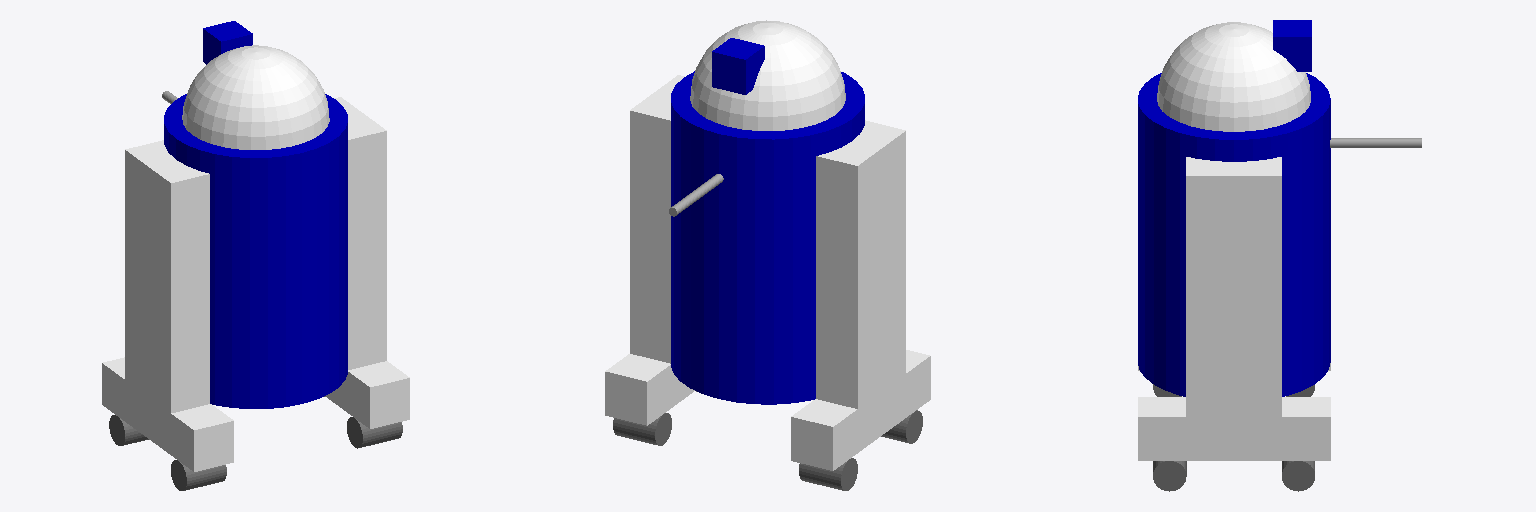
URDF robot description (physics):
<?xml version="0.0" ?>
<robot name="physics">
	<link name="base_link">
		<inertial>
			<origin rpy="0.00000 -0.00000 0.00000" xyz="0.00000 0.00000 0.00000"/>
			<mass value="10.00000"/>
			<inertia ixx="0.37225" ixy="0" ixz="0" iyy="0.37225" iyz="0" izz="0.14450"/>
		</inertial>
		<visual>
			<origin rpy="0.00000 -0.00000 0.00000" xyz="0.00000 0.00000 0.00000"/>
			<geometry>
				<cylinder length="0.60000" radius="0.20000"/>
			</geometry>
			<material name="mat_-1_0">
				<color rgba="0.00000 0.00000 0.80000 1.00000" />
			</material>
		</visual>
		<collision>
			<origin rpy="0.00000 -0.00000 0.00000" xyz="0.00000 0.00000 0.00000"/>
			<geometry>
				<cylinder length="0.60000" radius="0.17000"/>
			</geometry>
		</collision>
	</link>
	<link name="right_leg">
		<inertial>
			<origin rpy="0.00000 1.57080 -0.00000" xyz="0.00000 0.00000 -0.30000"/>
			<mass value="10.00000"/>
			<inertia ixx="0.04267" ixy="0" ixz="0" iyy="0.31067" iyz="0" izz="0.33601"/>
		</inertial>
		<visual>
			<origin rpy="0.00000 1.57080 -0.00000" xyz="0.00000 0.00000 -0.30000"/>
			<geometry>
				<box size="0.60000 0.20000 0.10000"/>
			</geometry>
			<material name="mat_0_0">
				<color rgba="1.00000 1.00000 1.00000 1.00000" />
			</material>
		</visual>
		<collision>
			<origin rpy="0.00000 1.57080 -0.00000" xyz="0.00000 0.00000 -0.30000"/>
			<geometry>
				<box size="0.60000 0.20000 0.10000"/>
			</geometry>
		</collision>
	</link>
	<link name="right_base">
		<inertial>
			<origin rpy="0.00000 -0.00000 0.00000" xyz="0.00000 0.00000 0.00000"/>
			<mass value="10.00000"/>
			<inertia ixx="0.14167" ixy="0" ixz="0" iyy="0.01667" iyz="0" izz="0.14167"/>
		</inertial>
		<visual>
			<origin rpy="0.00000 -0.00000 0.00000" xyz="0.00000 0.00000 0.00000"/>
			<geometry>
				<box size="0.10000 0.40000 0.10000"/>
			</geometry>
			<material name="mat_1_0">
				<color rgba="1.00000 1.00000 1.00000 1.00000" />
			</material>
		</visual>
		<collision>
			<origin rpy="0.00000 -0.00000 0.00000" xyz="0.00000 0.00000 0.00000"/>
			<geometry>
				<box size="0.10000 0.40000 0.10000"/>
			</geometry>
		</collision>
	</link>
	<link name="right_front_wheel">
		<inertial>
			<origin rpy="0.00000 -0.00000 0.00000" xyz="0.00000 0.00000 0.00000"/>
			<mass value="1.00000"/>
			<inertia ixx="0.00114" ixy="0" ixz="0" iyy="0.00114" iyz="0" izz="0.00061"/>
		</inertial>
		<visual>
			<origin rpy="0.00000 -0.00000 0.00000" xyz="0.00000 0.00000 0.00000"/>
			<geometry>
				<cylinder length="0.10000" radius="0.03500"/>
			</geometry>
			<material name="mat_2_0">
				<color rgba="0.50000 0.50000 0.50000 1.00000" />
			</material>
		</visual>
		<collision>
			<origin rpy="0.00000 -0.00000 0.00000" xyz="0.00000 0.00000 0.00000"/>
			<geometry>
				<cylinder length="0.10000" radius="0.03500"/>
			</geometry>
		</collision>
	</link>
	<link name="right_back_wheel">
		<inertial>
			<origin rpy="0.00000 -0.00000 0.00000" xyz="0.00000 0.00000 0.00000"/>
			<mass value="1.00000"/>
			<inertia ixx="0.00114" ixy="0" ixz="0" iyy="0.00114" iyz="0" izz="0.00061"/>
		</inertial>
		<visual>
			<origin rpy="0.00000 -0.00000 0.00000" xyz="0.00000 0.00000 0.00000"/>
			<geometry>
				<cylinder length="0.10000" radius="0.03500"/>
			</geometry>
			<material name="mat_3_0">
				<color rgba="0.50000 0.50000 0.50000 1.00000" />
			</material>
		</visual>
		<collision>
			<origin rpy="0.00000 -0.00000 0.00000" xyz="0.00000 0.00000 0.00000"/>
			<geometry>
				<cylinder length="0.10000" radius="0.03500"/>
			</geometry>
		</collision>
	</link>
	<link name="left_leg">
		<inertial>
			<origin rpy="0.00000 1.57080 -0.00000" xyz="0.00000 0.00000 -0.30000"/>
			<mass value="10.00000"/>
			<inertia ixx="0.04267" ixy="0" ixz="0" iyy="0.31067" iyz="0" izz="0.33601"/>
		</inertial>
		<visual>
			<origin rpy="0.00000 1.57080 -0.00000" xyz="0.00000 0.00000 -0.30000"/>
			<geometry>
				<box size="0.60000 0.20000 0.10000"/>
			</geometry>
			<material name="mat_4_0">
				<color rgba="1.00000 1.00000 1.00000 1.00000" />
			</material>
		</visual>
		<collision>
			<origin rpy="0.00000 1.57080 -0.00000" xyz="0.00000 0.00000 -0.30000"/>
			<geometry>
				<box size="0.60000 0.20000 0.10000"/>
			</geometry>
		</collision>
	</link>
	<link name="left_base">
		<inertial>
			<origin rpy="0.00000 -0.00000 0.00000" xyz="0.00000 0.00000 0.00000"/>
			<mass value="10.00000"/>
			<inertia ixx="0.14167" ixy="0" ixz="0" iyy="0.01667" iyz="0" izz="0.14167"/>
		</inertial>
		<visual>
			<origin rpy="0.00000 -0.00000 0.00000" xyz="0.00000 0.00000 0.00000"/>
			<geometry>
				<box size="0.10000 0.40000 0.10000"/>
			</geometry>
			<material name="mat_5_0">
				<color rgba="1.00000 1.00000 1.00000 1.00000" />
			</material>
		</visual>
		<collision>
			<origin rpy="0.00000 -0.00000 0.00000" xyz="0.00000 0.00000 0.00000"/>
			<geometry>
				<box size="0.10000 0.40000 0.10000"/>
			</geometry>
		</collision>
	</link>
	<link name="left_front_wheel">
		<inertial>
			<origin rpy="0.00000 -0.00000 0.00000" xyz="0.00000 0.00000 0.00000"/>
			<mass value="1.00000"/>
			<inertia ixx="0.00114" ixy="0" ixz="0" iyy="0.00114" iyz="0" izz="0.00061"/>
		</inertial>
		<visual>
			<origin rpy="0.00000 -0.00000 0.00000" xyz="0.00000 0.00000 0.00000"/>
			<geometry>
				<cylinder length="0.10000" radius="0.03500"/>
			</geometry>
			<material name="mat_6_0">
				<color rgba="0.50000 0.50000 0.50000 1.00000" />
			</material>
		</visual>
		<collision>
			<origin rpy="0.00000 -0.00000 0.00000" xyz="0.00000 0.00000 0.00000"/>
			<geometry>
				<cylinder length="0.10000" radius="0.03500"/>
			</geometry>
		</collision>
	</link>
	<link name="left_back_wheel">
		<inertial>
			<origin rpy="0.00000 -0.00000 0.00000" xyz="0.00000 0.00000 0.00000"/>
			<mass value="1.00000"/>
			<inertia ixx="0.00114" ixy="0" ixz="0" iyy="0.00114" iyz="0" izz="0.00061"/>
		</inertial>
		<visual>
			<origin rpy="0.00000 -0.00000 0.00000" xyz="0.00000 0.00000 0.00000"/>
			<geometry>
				<cylinder length="0.10000" radius="0.03500"/>
			</geometry>
			<material name="mat_7_0">
				<color rgba="0.50000 0.50000 0.50000 1.00000" />
			</material>
		</visual>
		<collision>
			<origin rpy="0.00000 -0.00000 0.00000" xyz="0.00000 0.00000 0.00000"/>
			<geometry>
				<cylinder length="0.10000" radius="0.03500"/>
			</geometry>
		</collision>
	</link>
	<link name="gripper_pole">
		<inertial>
			<origin rpy="0.00000 -0.00000 0.00000" xyz="0.00000 0.00000 0.00000"/>
			<mass value="0.05000"/>
			<inertia ixx="0.00000" ixy="0" ixz="0" iyy="0.00017" iyz="0" izz="0.00017"/>
		</inertial>
		<visual>
			<origin rpy="0.00000 1.57080 -0.00000" xyz="0.10000 0.00000 0.00000"/>
			<geometry>
				<cylinder length="0.20000" radius="0.01000"/>
			</geometry>
			<material name="mat_8_0">
				<color rgba="0.70000 0.70000 0.70000 1.00000" />
			</material>
		</visual>
		<collision>
			<origin rpy="0.00000 1.57080 -0.00000" xyz="0.10000 0.00000 0.00000"/>
			<geometry>
				<cylinder length="0.20000" radius="0.01000"/>
			</geometry>
		</collision>
	</link>
	<link name="left_gripper">
		<inertial>
			<origin rpy="0.00000 -0.00000 0.00000" xyz="0.00000 0.00000 0.00000"/>
			<mass value="0.05000"/>
			<inertia ixx="0.00003" ixy="0" ixz="0" iyy="0.00007" iyz="0" izz="0.00007"/>
		</inertial>
		<visual>
			<origin rpy="0.00000 -0.00000 0.00000" xyz="0.00000 0.00000 0.00000"/>
			<geometry>
				<mesh filename="[local-path]/anaconda3/envs/softSim/lib/python3.8/site-packages/pybullet_data/l_finger.stl" scale="1.00000 1.00000 1.00000"/>
			</geometry>
			<material name="mat_9_0">
				<color rgba="1.00000 1.00000 1.00000 1.00000" />
			</material>
		</visual>
		<collision>
			<origin rpy="0.00000 -0.00000 0.00000" xyz="0.00000 0.00000 0.00000"/>
			<geometry>
				<mesh filename="[local-path]/anaconda3/envs/softSim/lib/python3.8/site-packages/pybullet_data/l_finger.stl" scale="1.00000 1.00000 1.00000"/>
			</geometry>
		</collision>
	</link>
	<link name="left_tip">
		<inertial>
			<origin rpy="0.00000 -0.00000 0.00000" xyz="0.00000 0.00000 0.00000"/>
			<mass value="0.05000"/>
			<inertia ixx="0.00001" ixy="0" ixz="0" iyy="0.00002" iyz="0" izz="0.00003"/>
		</inertial>
		<visual>
			<origin rpy="0.00000 -0.00000 0.00000" xyz="0.09137 0.00495 0.00000"/>
			<geometry>
				<mesh filename="[local-path]/anaconda3/envs/softSim/lib/python3.8/site-packages/pybullet_data/l_finger_tip.stl" scale="1.00000 1.00000 1.00000"/>
			</geometry>
			<material name="mat_10_0">
				<color rgba="1.00000 1.00000 1.00000 1.00000" />
			</material>
		</visual>
		<collision>
			<origin rpy="0.00000 -0.00000 0.00000" xyz="0.09137 0.00495 0.00000"/>
			<geometry>
				<mesh filename="[local-path]/anaconda3/envs/softSim/lib/python3.8/site-packages/pybullet_data/l_finger_tip.stl" scale="1.00000 1.00000 1.00000"/>
			</geometry>
		</collision>
	</link>
	<link name="right_gripper">
		<inertial>
			<origin rpy="0.00000 -0.00000 0.00000" xyz="0.00000 0.00000 0.00000"/>
			<mass value="0.05000"/>
			<inertia ixx="0.00003" ixy="0" ixz="0" iyy="0.00007" iyz="0" izz="0.00007"/>
		</inertial>
		<visual>
			<origin rpy="-3.14150 -0.00000 0.00000" xyz="0.00000 0.00000 0.00000"/>
			<geometry>
				<mesh filename="[local-path]/anaconda3/envs/softSim/lib/python3.8/site-packages/pybullet_data/l_finger.stl" scale="1.00000 1.00000 1.00000"/>
			</geometry>
			<material name="mat_11_0">
				<color rgba="1.00000 1.00000 1.00000 1.00000" />
			</material>
		</visual>
		<collision>
			<origin rpy="-3.14150 -0.00000 0.00000" xyz="0.00000 0.00000 0.00000"/>
			<geometry>
				<mesh filename="[local-path]/anaconda3/envs/softSim/lib/python3.8/site-packages/pybullet_data/l_finger.stl" scale="1.00000 1.00000 1.00000"/>
			</geometry>
		</collision>
	</link>
	<link name="right_tip">
		<inertial>
			<origin rpy="0.00000 -0.00000 0.00000" xyz="0.00000 0.00000 0.00000"/>
			<mass value="0.05000"/>
			<inertia ixx="0.00001" ixy="0" ixz="0" iyy="0.00002" iyz="0" izz="0.00003"/>
		</inertial>
		<visual>
			<origin rpy="-3.14150 -0.00000 0.00000" xyz="0.09137 0.00495 0.00000"/>
			<geometry>
				<mesh filename="[local-path]/anaconda3/envs/softSim/lib/python3.8/site-packages/pybullet_data/l_finger_tip.stl" scale="1.00000 1.00000 1.00000"/>
			</geometry>
			<material name="mat_12_0">
				<color rgba="1.00000 1.00000 1.00000 1.00000" />
			</material>
		</visual>
		<collision>
			<origin rpy="-3.14150 -0.00000 0.00000" xyz="0.09137 0.00495 0.00000"/>
			<geometry>
				<mesh filename="[local-path]/anaconda3/envs/softSim/lib/python3.8/site-packages/pybullet_data/l_finger_tip.stl" scale="1.00000 1.00000 1.00000"/>
			</geometry>
		</collision>
	</link>
	<link name="head">
		<inertial>
			<origin rpy="0.00000 -0.00000 0.00000" xyz="0.00000 0.00000 0.00000"/>
			<mass value="10.00000"/>
			<inertia ixx="0.10240" ixy="0" ixz="0" iyy="0.10240" iyz="0" izz="0.10240"/>
		</inertial>
		<visual>
			<origin rpy="0.00000 -0.00000 0.00000" xyz="0.00000 0.00000 0.00000"/>
			<geometry>
				<sphere radius="0.16000"/>
			</geometry>
			<material name="mat_13_0">
				<color rgba="1.00000 1.00000 1.00000 1.00000" />
			</material>
		</visual>
		<collision>
			<origin rpy="0.00000 -0.00000 0.00000" xyz="0.00000 0.00000 0.00000"/>
			<geometry>
				<sphere radius="0.16000"/>
			</geometry>
		</collision>
	</link>
	<link name="box">
		<inertial>
			<origin rpy="0.00000 -0.00000 0.00000" xyz="0.00000 0.00000 0.00000"/>
			<mass value="1.00000"/>
			<inertia ixx="0.00107" ixy="0" ixz="0" iyy="0.00107" iyz="0" izz="0.00107"/>
		</inertial>
		<visual>
			<origin rpy="0.00000 -0.00000 0.00000" xyz="0.00000 0.00000 0.00000"/>
			<geometry>
				<box size="0.08000 0.08000 0.08000"/>
			</geometry>
			<material name="mat_14_0">
				<color rgba="0.00000 0.00000 0.80000 1.00000" />
			</material>
		</visual>
		<collision>
			<origin rpy="0.00000 -0.00000 0.00000" xyz="0.00000 0.00000 0.00000"/>
			<geometry>
				<box size="0.08000 0.08000 0.08000"/>
			</geometry>
		</collision>
	</link>
	<joint name="base_to_right_leg" type="fixed">
		<parent link="base_link"/>
		<child link="right_leg"/>
		<dynamics damping="1.0" friction="0.0001"/>
		<origin rpy="0.00000 -0.00000 0.00000" xyz="0.22000 0.00000 0.25000"/>
		<axis xyz="0.00000 0.00000 0.00000"/>
	</joint>
	<joint name="right_base_joint" type="fixed">
		<parent link="right_leg"/>
		<child link="right_base"/>
		<dynamics damping="1.0" friction="0.0001"/>
		<origin rpy="0.00000 0.00000 0.00000" xyz="0.00000 0.00000 -0.60000"/>
		<axis xyz="0.00000 0.00000 0.00000"/>
	</joint>
	<joint name="right_front_wheel_joint" type="continuous">
		<parent link="right_base"/>
		<child link="right_front_wheel"/>
		<dynamics damping="1.0" friction="0.0001"/>
		<origin rpy="0.00000 1.57080 -0.00000" xyz="0.00000 0.13333 -0.08500"/>
		<axis xyz="0.00000 0.00000 1.00000"/>
	</joint>
	<joint name="right_back_wheel_joint" type="continuous">
		<parent link="right_base"/>
		<child link="right_back_wheel"/>
		<dynamics damping="1.0" friction="0.0001"/>
		<origin rpy="0.00000 1.57080 -0.00000" xyz="0.00000 -0.13333 -0.08500"/>
		<axis xyz="0.00000 0.00000 1.00000"/>
	</joint>
	<joint name="base_to_left_leg" type="fixed">
		<parent link="base_link"/>
		<child link="left_leg"/>
		<dynamics damping="1.0" friction="0.0001"/>
		<origin rpy="0.00000 -0.00000 0.00000" xyz="-0.22000 0.00000 0.25000"/>
		<axis xyz="0.00000 0.00000 0.00000"/>
	</joint>
	<joint name="left_base_joint" type="fixed">
		<parent link="left_leg"/>
		<child link="left_base"/>
		<dynamics damping="1.0" friction="0.0001"/>
		<origin rpy="0.00000 0.00000 0.00000" xyz="0.00000 0.00000 -0.60000"/>
		<axis xyz="0.00000 0.00000 0.00000"/>
	</joint>
	<joint name="left_front_wheel_joint" type="continuous">
		<parent link="left_base"/>
		<child link="left_front_wheel"/>
		<dynamics damping="1.0" friction="0.0001"/>
		<origin rpy="0.00000 1.57080 -0.00000" xyz="0.00000 0.13333 -0.08500"/>
		<axis xyz="0.00000 0.00000 1.00000"/>
	</joint>
	<joint name="left_back_wheel_joint" type="continuous">
		<parent link="left_base"/>
		<child link="left_back_wheel"/>
		<dynamics damping="1.0" friction="0.0001"/>
		<origin rpy="0.00000 1.57080 -0.00000" xyz="0.00000 -0.13333 -0.08500"/>
		<axis xyz="0.00000 0.00000 1.00000"/>
	</joint>
	<joint name="gripper_extension" type="prismatic">
		<parent link="base_link"/>
		<child link="gripper_pole"/>
		<limit effort="1000.00000" lower="-0.38000" upper="0.00000" velocity="0.50000"/>
		<dynamics damping="1.0" friction="0.0001"/>
		<origin rpy="0.00000 -0.00000 1.57075" xyz="0.00000 0.19000 0.20000"/>
		<axis xyz="1.00000 0.00000 0.00000"/>
	</joint>
	<joint name="left_gripper_joint" type="revolute">
		<parent link="gripper_pole"/>
		<child link="left_gripper"/>
		<limit effort="1000.00000" lower="0.00000" upper="0.54800" velocity="0.50000"/>
		<dynamics damping="1.0" friction="0.0001"/>
		<origin rpy="0.00000 -0.00000 0.00000" xyz="0.20000 0.02000 0.00000"/>
		<axis xyz="0.00000 0.00000 1.00000"/>
	</joint>
	<joint name="left_tip_joint" type="fixed">
		<parent link="left_gripper"/>
		<child link="left_tip"/>
		<dynamics damping="1.0" friction="0.0001"/>
		<origin rpy="0.00000 -0.00000 0.00000" xyz="0.00000 0.00000 0.00000"/>
		<axis xyz="0.00000 0.00000 0.00000"/>
	</joint>
	<joint name="right_gripper_joint" type="revolute">
		<parent link="gripper_pole"/>
		<child link="right_gripper"/>
		<limit effort="1000.00000" lower="0.00000" upper="0.54800" velocity="0.50000"/>
		<dynamics damping="1.0" friction="0.0001"/>
		<origin rpy="0.00000 -0.00000 0.00000" xyz="0.20000 -0.02000 0.00000"/>
		<axis xyz="0.00000 0.00000 -1.00000"/>
	</joint>
	<joint name="right_tip_joint" type="fixed">
		<parent link="right_gripper"/>
		<child link="right_tip"/>
		<dynamics damping="1.0" friction="0.0001"/>
		<origin rpy="0.00000 -0.00000 0.00000" xyz="0.00000 0.00000 0.00000"/>
		<axis xyz="0.00000 0.00000 0.00000"/>
	</joint>
	<joint name="head_swivel" type="revolute">
		<parent link="base_link"/>
		<child link="head"/>
		<limit effort="1000.00000" lower="-0.38000" upper="0.00000" velocity="0.50000"/>
		<dynamics damping="1.0" friction="0.0001"/>
		<origin rpy="0.00000 -0.00000 0.00000" xyz="0.00000 0.00000 0.30000"/>
		<axis xyz="0.00000 0.00000 1.00000"/>
	</joint>
	<joint name="tobox" type="fixed">
		<parent link="head"/>
		<child link="box"/>
		<dynamics damping="1.0" friction="0.0001"/>
		<origin rpy="0.00000 -0.00000 0.00000" xyz="0.00000 0.12140 0.12140"/>
		<axis xyz="0.00000 0.00000 0.00000"/>
	</joint>
</robot>

--- What the picture shows (computed from the rendered views, not written in the file) ---
3 views of the same robot in one strip: view 1: azimuth 30°, elevation 25°; view 2: azimuth 150°, elevation 25°; view 3: azimuth 270°, elevation 25° (orthographic).
Model physics with 16 links and 15 joints (3 revolute, 4 continuous, 1 prismatic, 7 fixed), rooted at base_link, posed all joints at 0.
Visible links, largest first — view 1: base_link, left_leg, head, right_leg, left_base, right_base, box, right_back_wheel, left_back_wheel, left_front_wheel; view 2: base_link, left_leg, head, right_leg, left_base, right_base, box, right_front_wheel, left_front_wheel, left_back_wheel, gripper_pole; view 3: base_link, right_leg, head, right_base, box, right_back_wheel, gripper_pole, right_front_wheel.
Boxes of the visible links, bbox=[...] form: base_link: bbox=[164, 94, 347, 408]; left_leg: bbox=[125, 140, 209, 433]; head: bbox=[182, 45, 329, 149]; right_leg: bbox=[334, 97, 386, 390]; left_base: bbox=[102, 357, 233, 471]; right_base: bbox=[325, 361, 409, 428]; box: bbox=[203, 21, 252, 64]; right_back_wheel: bbox=[347, 417, 402, 448]; left_back_wheel: bbox=[171, 460, 226, 490]; left_front_wheel: bbox=[109, 415, 148, 445]; base_link: bbox=[671, 71, 864, 404]; left_leg: bbox=[816, 120, 905, 430]; head: bbox=[690, 20, 845, 130]; right_leg: bbox=[630, 75, 684, 384]; left_base: bbox=[791, 350, 930, 470]; right_base: bbox=[605, 354, 694, 425]; box: bbox=[712, 38, 764, 94]; right_front_wheel: bbox=[613, 413, 671, 445]; left_front_wheel: bbox=[799, 458, 857, 490]; left_back_wheel: bbox=[881, 410, 922, 443]; gripper_pole: bbox=[669, 174, 723, 216]; base_link: bbox=[1138, 73, 1330, 396]; right_leg: bbox=[1186, 157, 1281, 416]; head: bbox=[1157, 22, 1310, 131]; right_base: bbox=[1138, 397, 1330, 460]; box: bbox=[1273, 20, 1311, 71]; right_back_wheel: bbox=[1153, 461, 1186, 491]; gripper_pole: bbox=[1330, 138, 1421, 147]; right_front_wheel: bbox=[1282, 461, 1314, 491].
Bounding box of the posed robot: 0.54 × 0.59 × 0.9314 m (x, y, z).
Geometry: only primitive shapes (box / cylinder / sphere) drawn; not drawn: 4 mesh visuals (reference in a form the renderer does not follow).